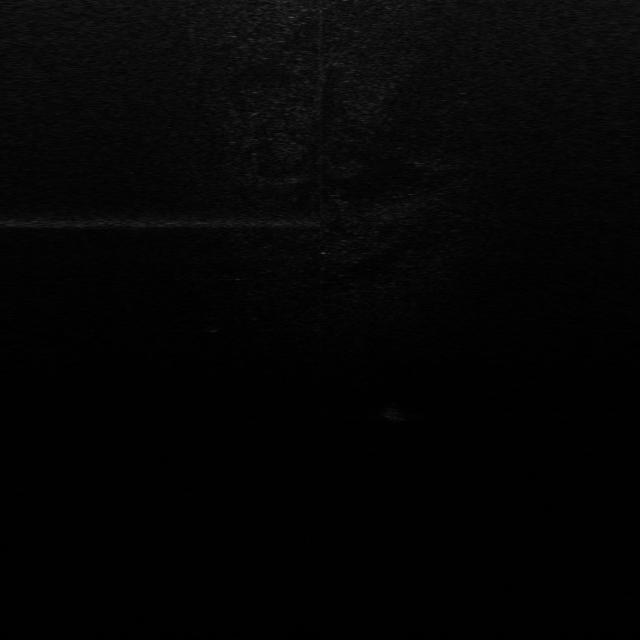ball: (380, 399, 410, 424)
circle cage: (198, 315, 226, 335)
